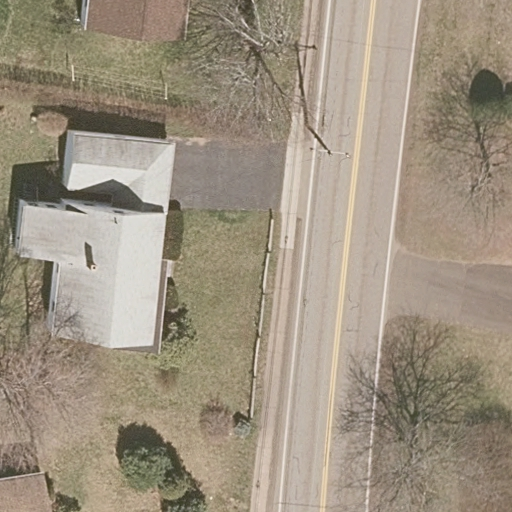DT: (303, 121, 351, 159)
